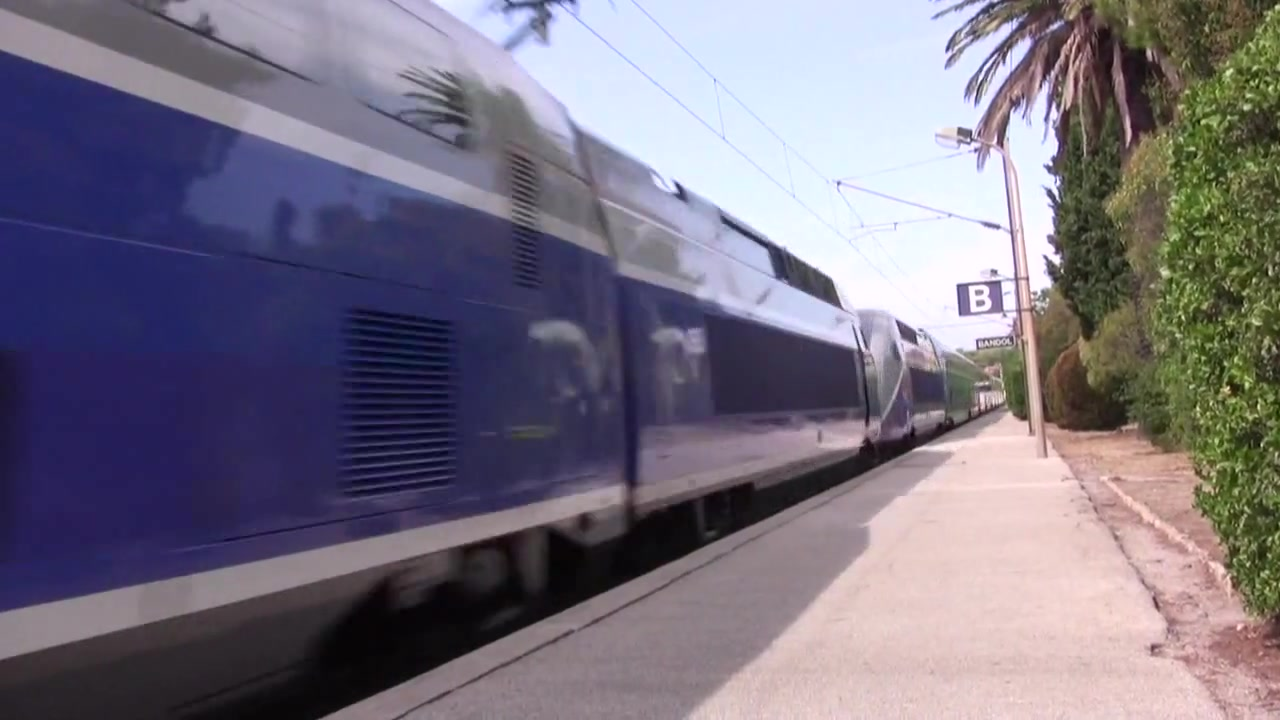train: (1, 1, 1001, 720)
